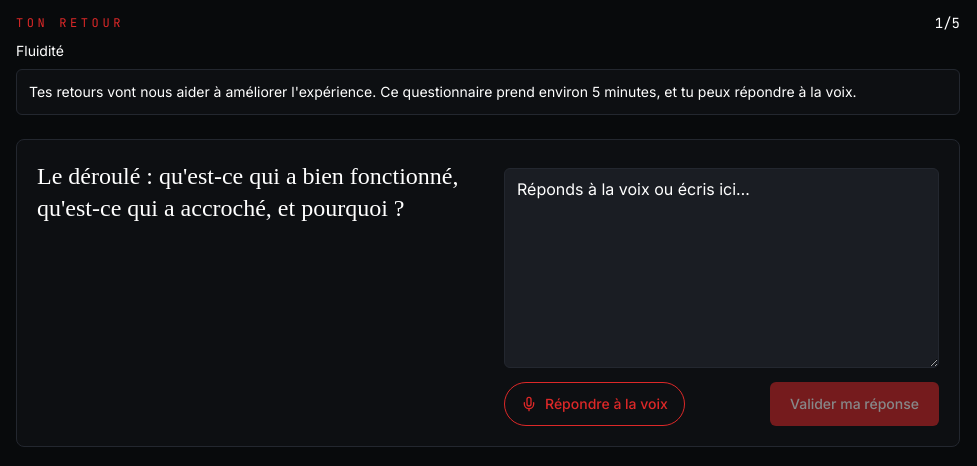
Test: ConversationalQuestionnaire › shows the follow-up as the prominent question, with the earlier answer one tap away
The width and height of the screenshot is (977, 466).
Type "Ma première réponse" into the text box named "Ta réponse" at (722, 268), box [504,168,939,368]
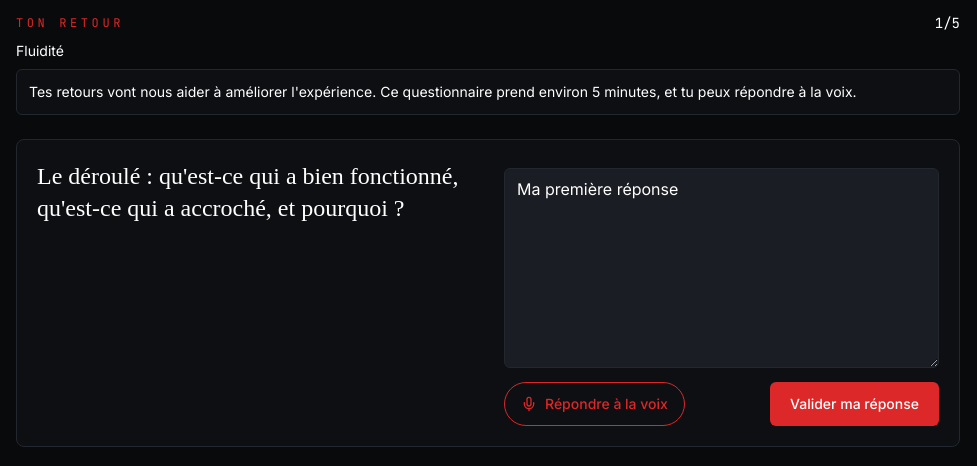
Click the button "Valider ma réponse" at (854, 404), box [770,382,939,426]
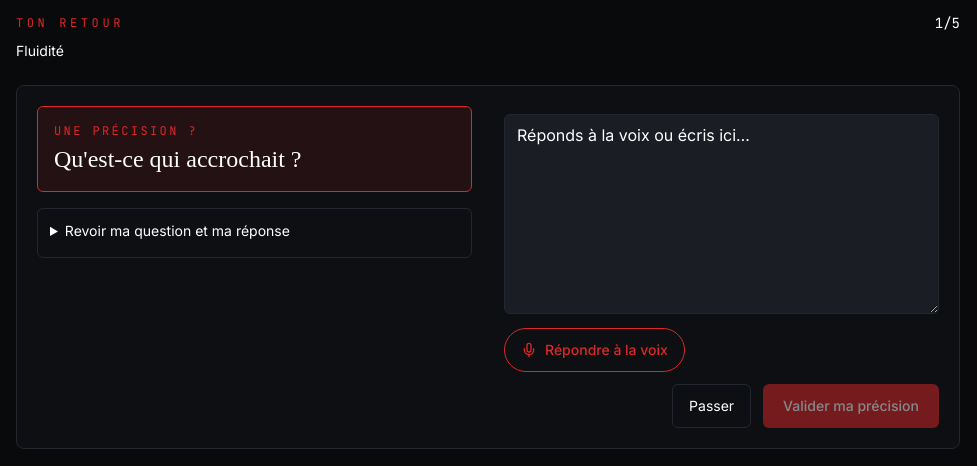
Result: the element with test id "questionnaire-follow-up" shows "Qu'est-ce qui accrochait ?" at [54,146,302,172]
